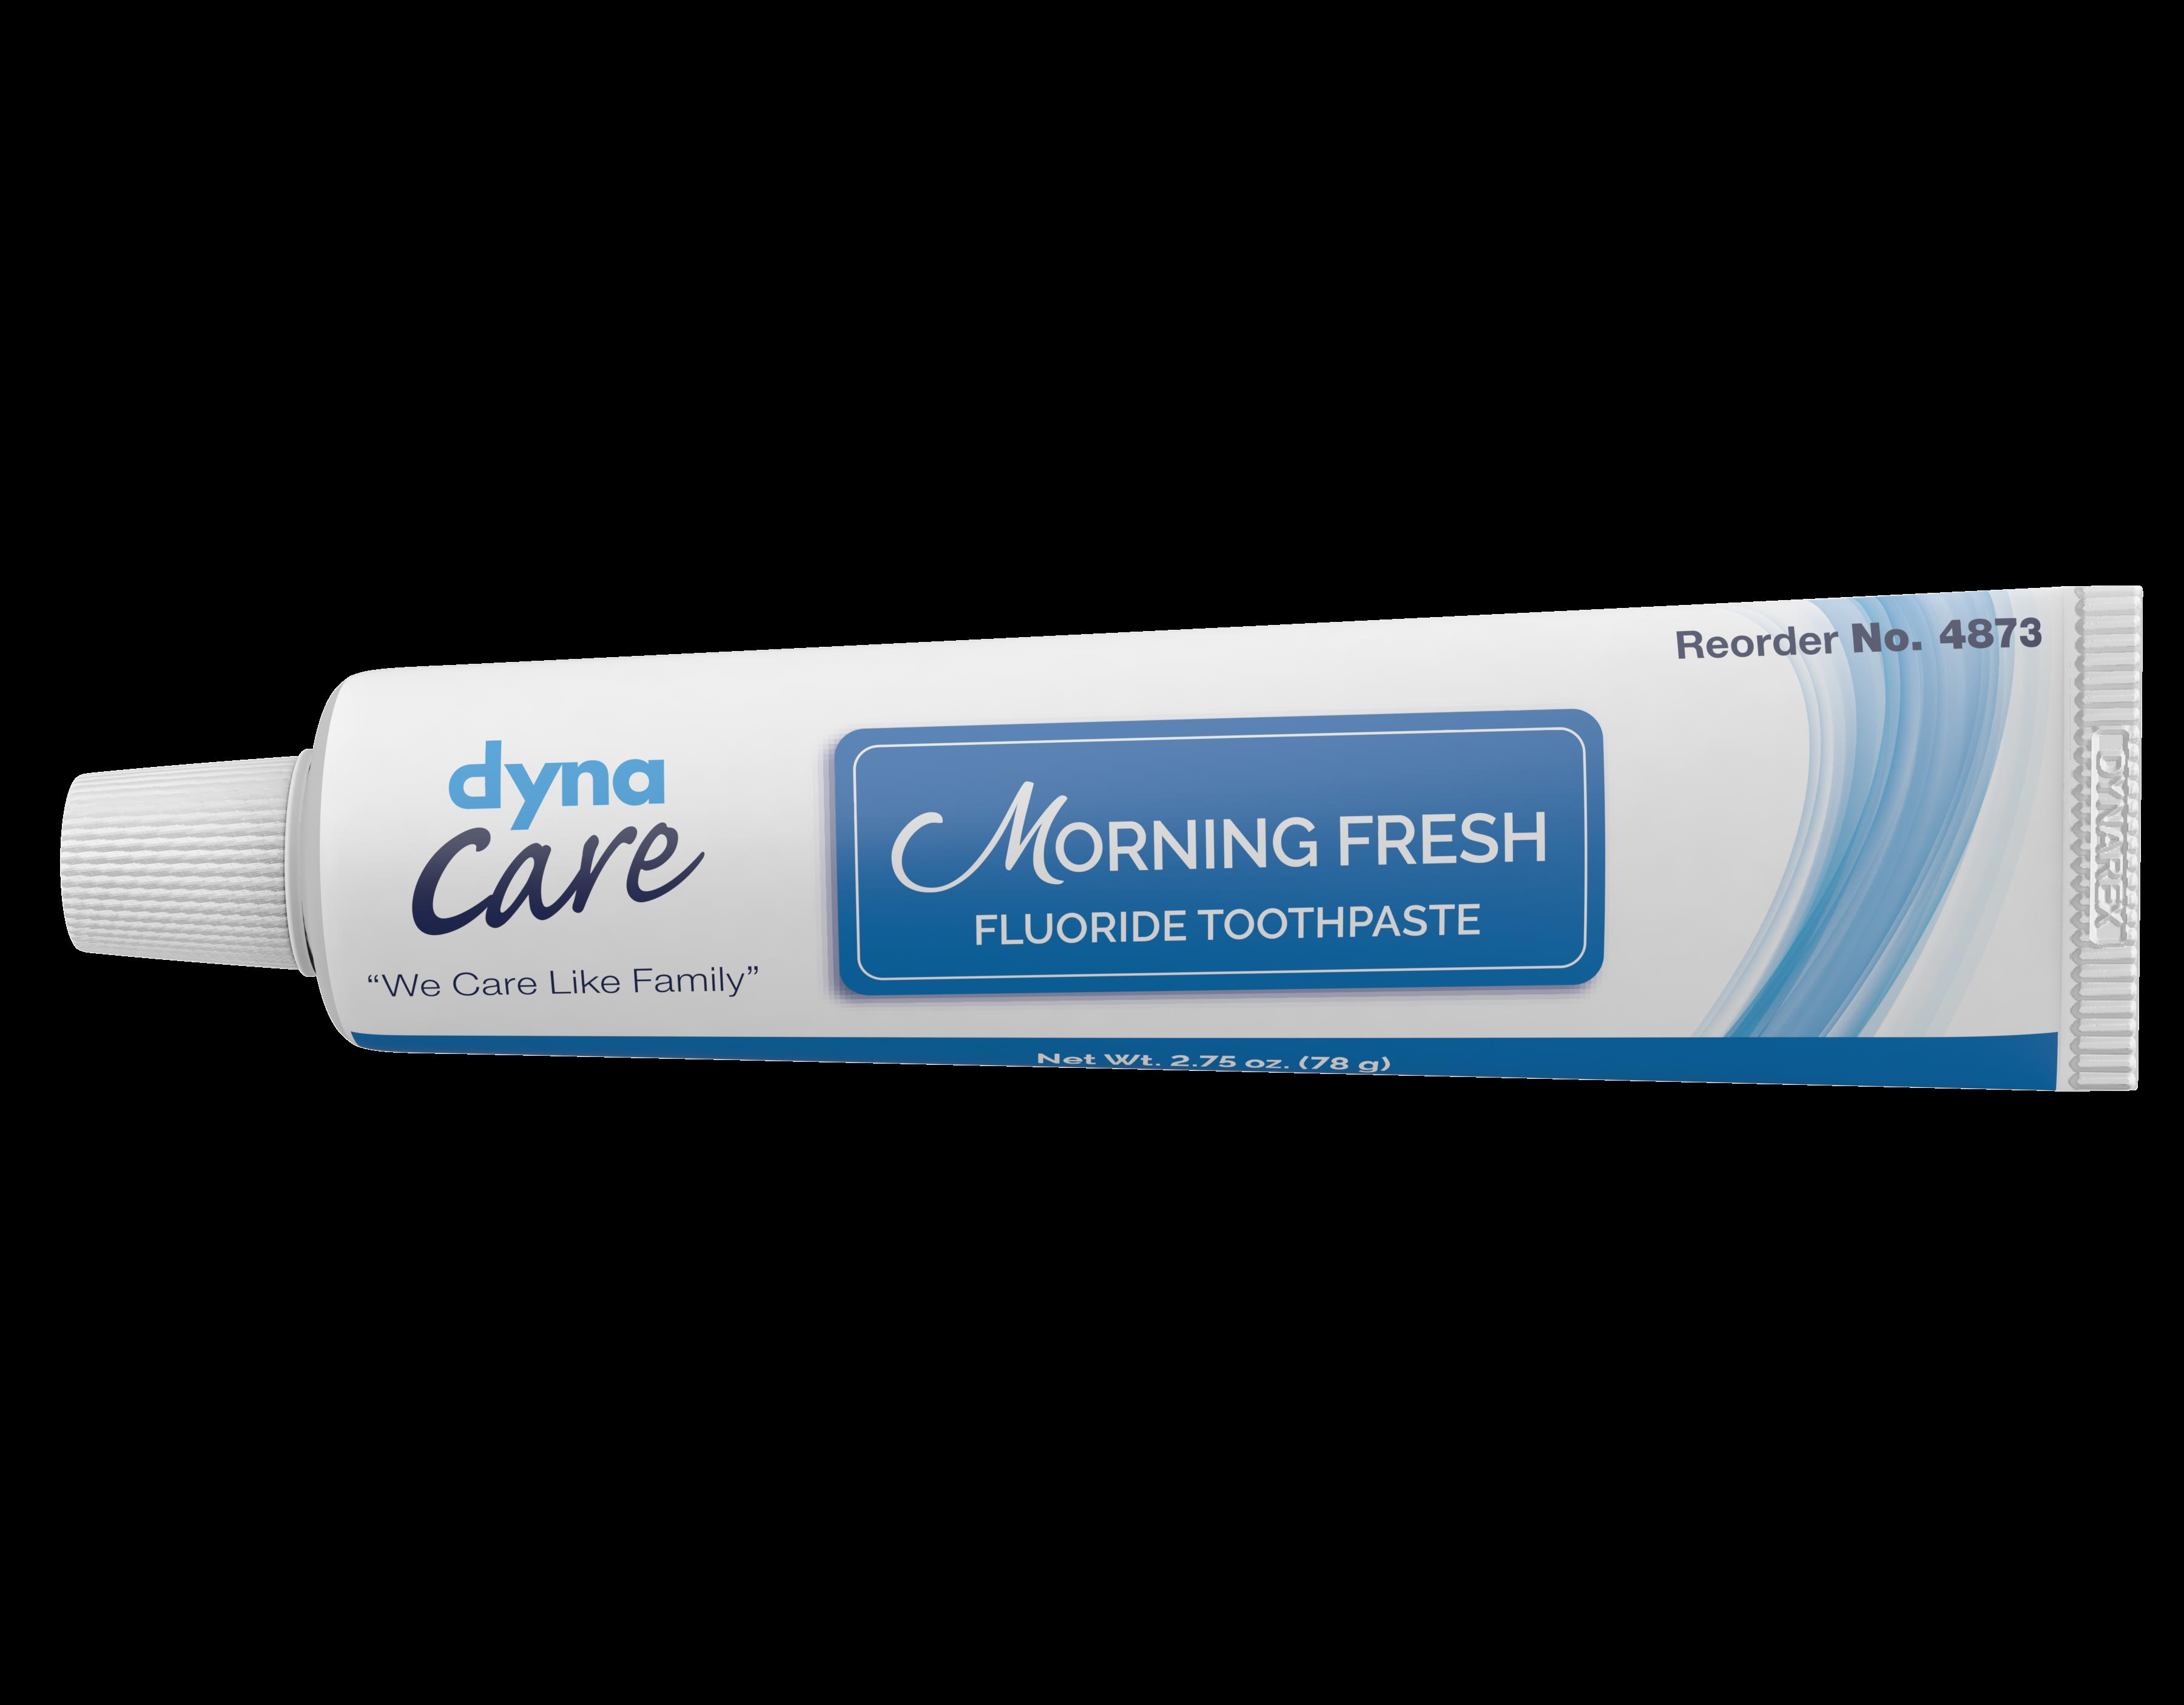toothpaste: (0, 528, 2184, 1211)
